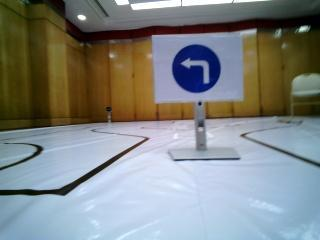left: (157, 42, 228, 96)
